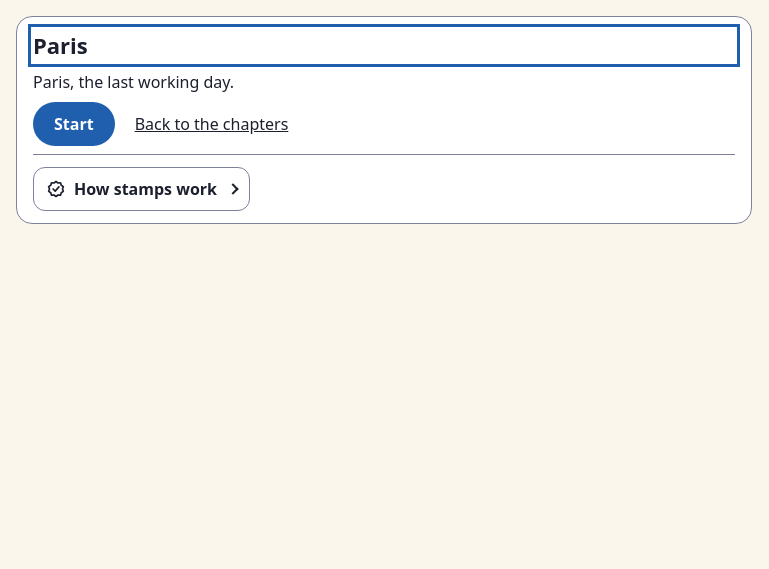
CR-48b: How stamps work › opens and closes as a disclosure: h2 > button, aria-controls the list of five bullets
What coordinates should you click on to do the following:
click the button "How stamps work"
I would click on:
 (142, 189)
Its box is x1=33 y1=167 x2=250 y2=211.
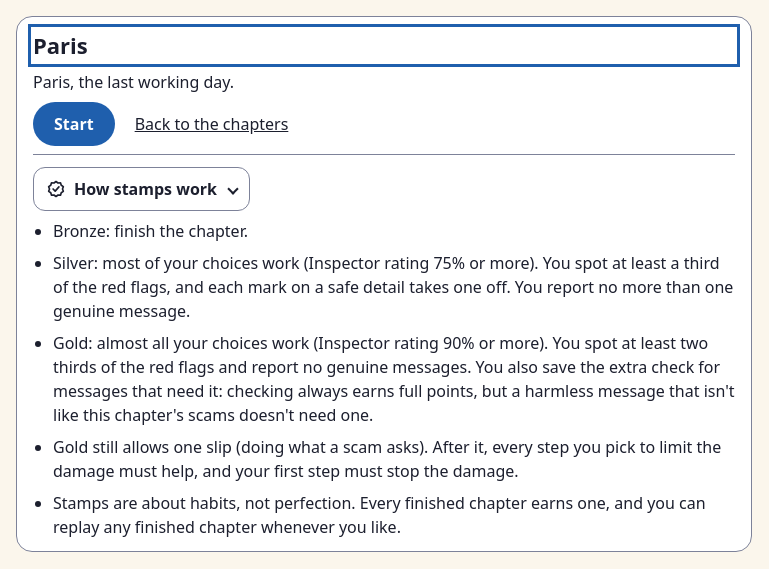
Now the button "How stamps work" is expanded
Now the list items read "Bronze: finish the chapter.", "Silver: most of your choices work (Inspector rating 75% or more). You spot at least a third of the red flags, and each mark on a safe detail takes one off. You ", "Gold: almost all your choices work (Inspector rating 90% or more). You spot at least two thirds of the red flags and report no genuine messages. You also save t", "Gold still allows one slip (doing what a scam asks). After it, every step you pick to limit the damage must help, and your first step must stop the damage.", "Stamps are about habits, not perfection. Every finished chapter earns one, and you can replay any finished chapter whenever you like.", in this order, box x1=53 y1=220 x2=248 y2=242; x1=53 y1=251 x2=735 y2=323; x1=53 y1=331 x2=735 y2=427; x1=53 y1=435 x2=735 y2=483; x1=53 y1=491 x2=735 y2=539
What coordinates should you click on to do the following:
click the button "How stamps work"
I would click on:
 (142, 189)
Its box is x1=33 y1=167 x2=250 y2=211.
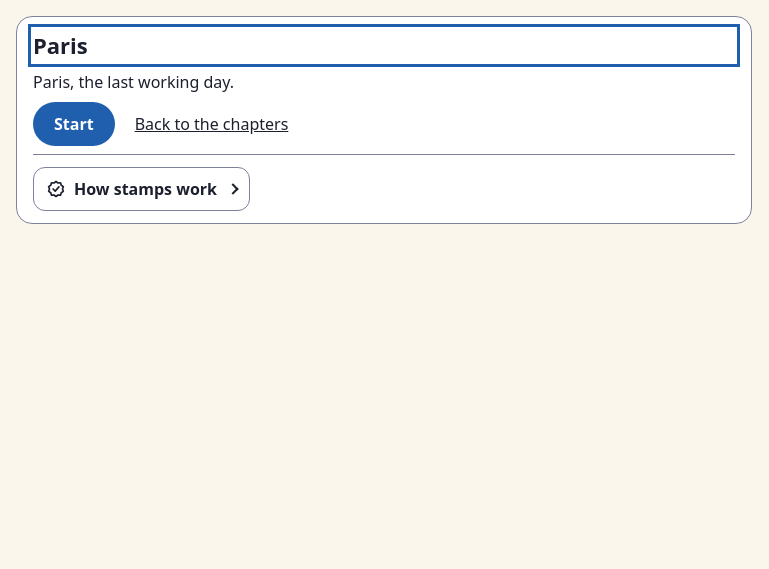
Now the button "How stamps work" is collapsed, box x1=33 y1=167 x2=250 y2=211
